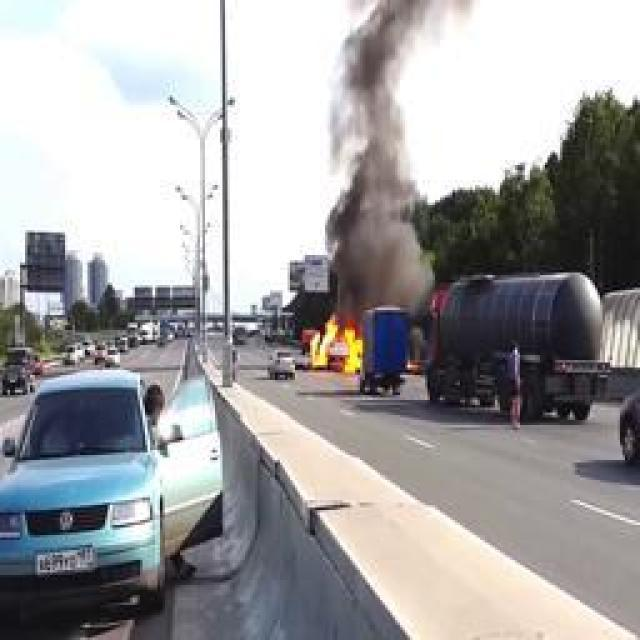Fire: (308, 315, 362, 373)
